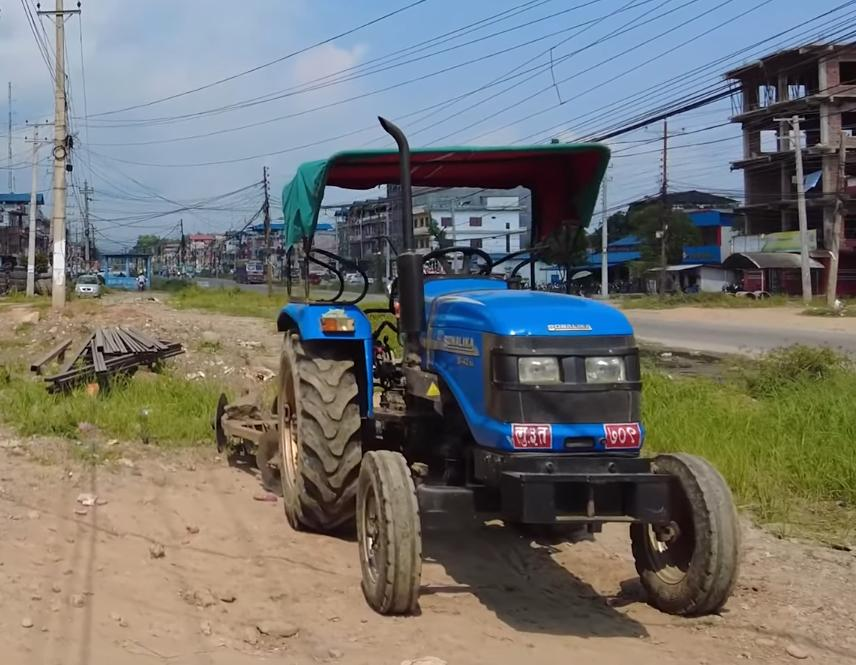car: (69, 271, 104, 303)
tractor: (273, 116, 747, 626)
truck: (232, 254, 268, 285)
